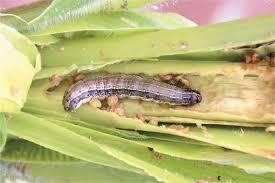fallarmy_worm: (61, 74, 203, 115)
